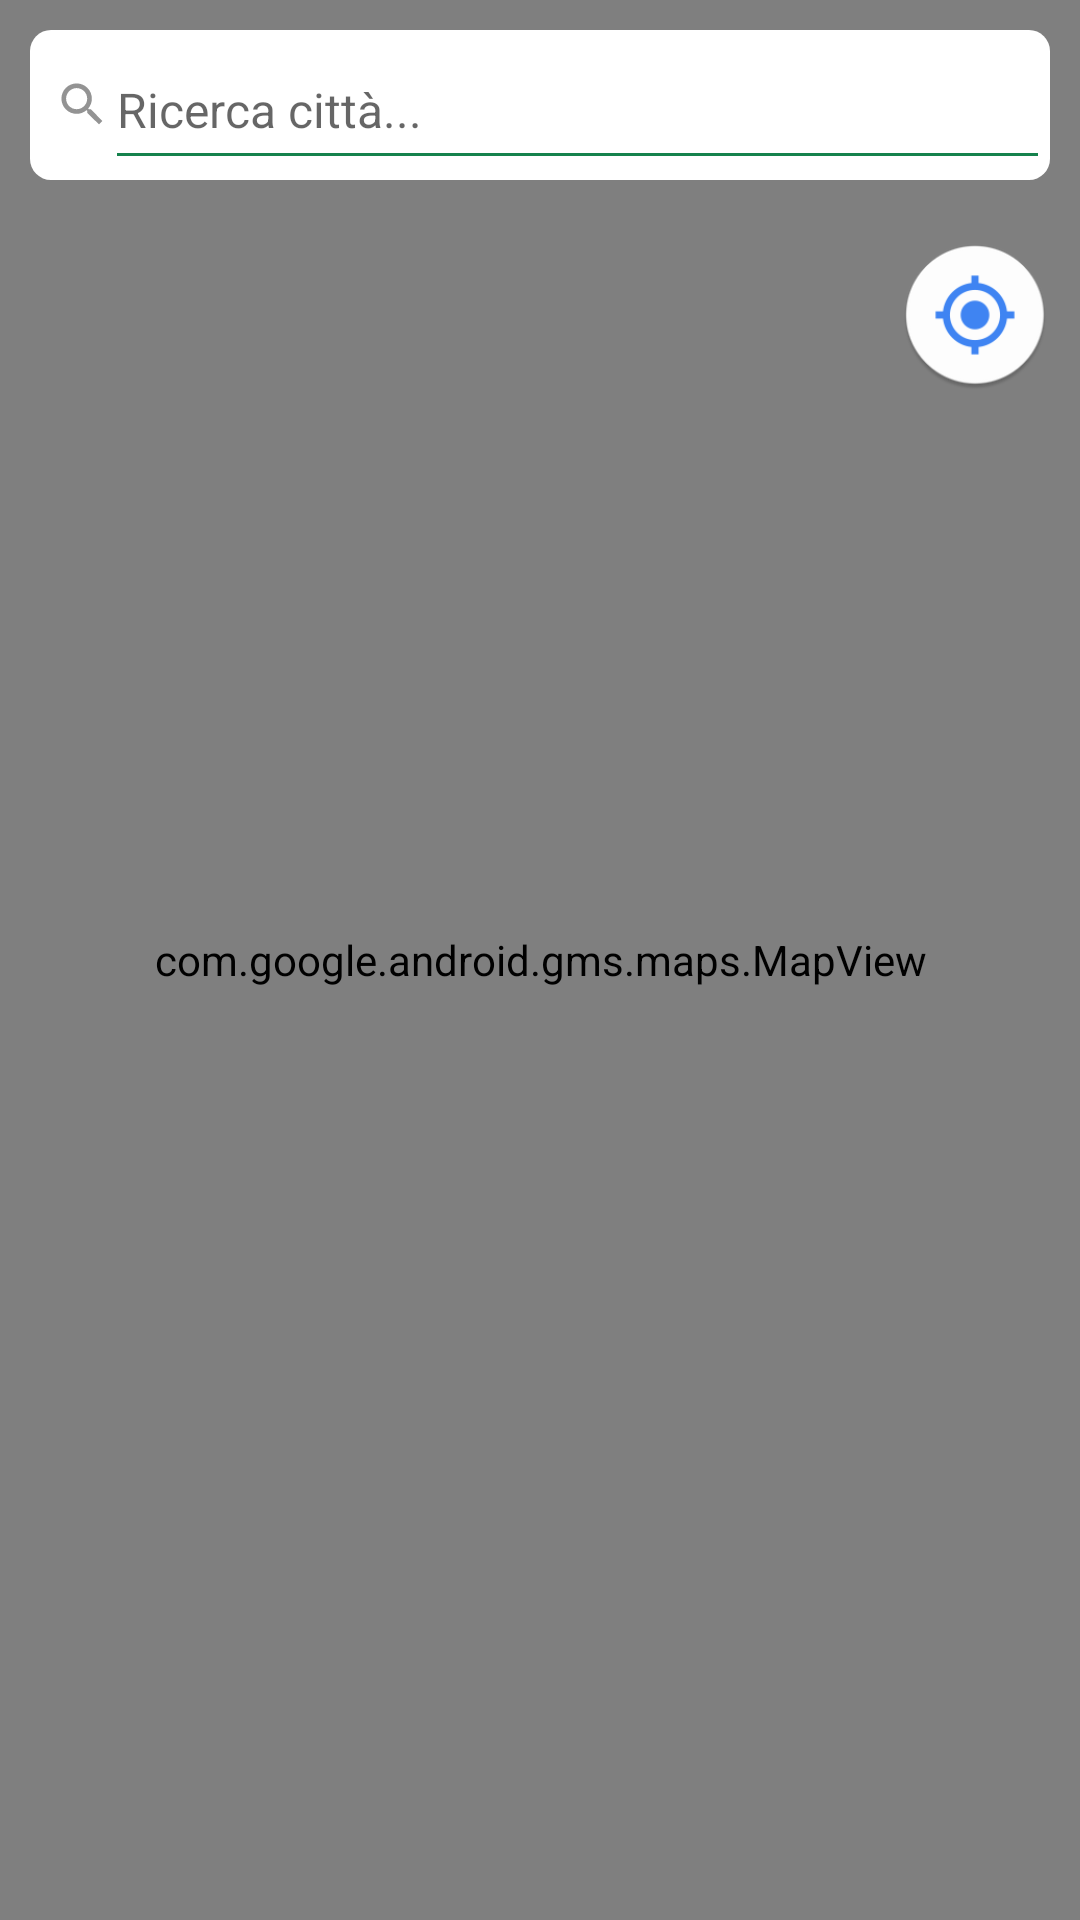

Icons on this 1080x1920 Android screen, each with its box as (x1, y1, x2, y2):
Gps: (906, 246, 1044, 385)
lente: (61, 83, 102, 124)
